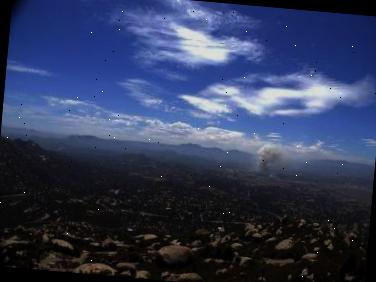smoke: (249, 140, 294, 181)
